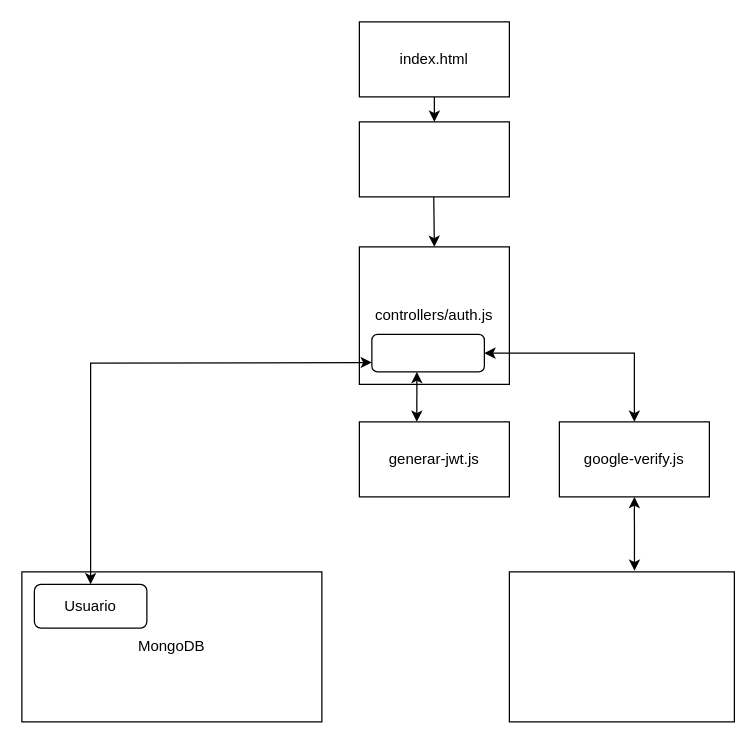
The diagram is 756 pixels wide and 744 high, and some of its shapes have lost their labels. The centre of each missing label's shape, as x and y in pixels:
"Google API google-auth-library" belongs at [621,646].
"googleSignin" belongs at [427,352].
"routes/auth.js" belongs at [433,159].
